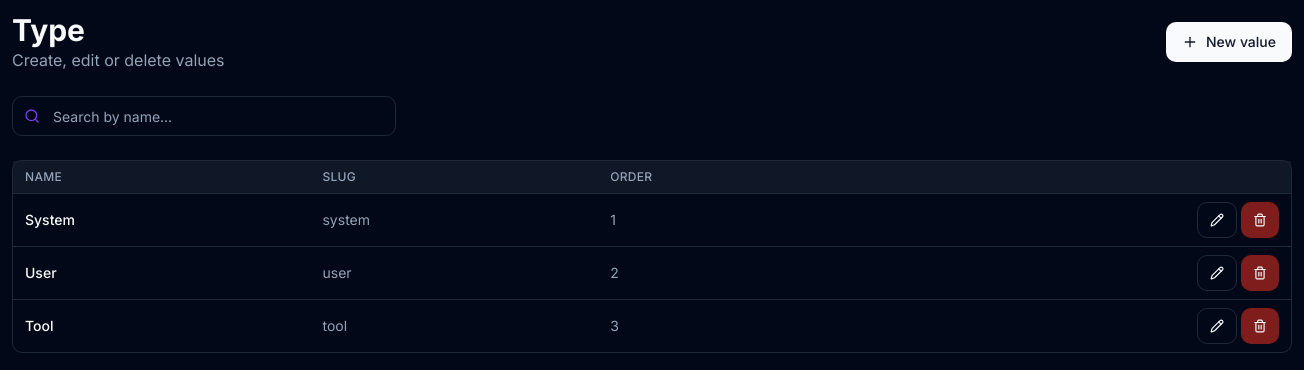
TaxonomyManager › filters the values client-side by name as the user types
Expected: the text "System" is shown, [13,194,310,246]
Act — type a query that only matches one value.
Type "sys" into the search field with placeholder "Search by name..." at (204, 116), box [12,96,396,136]
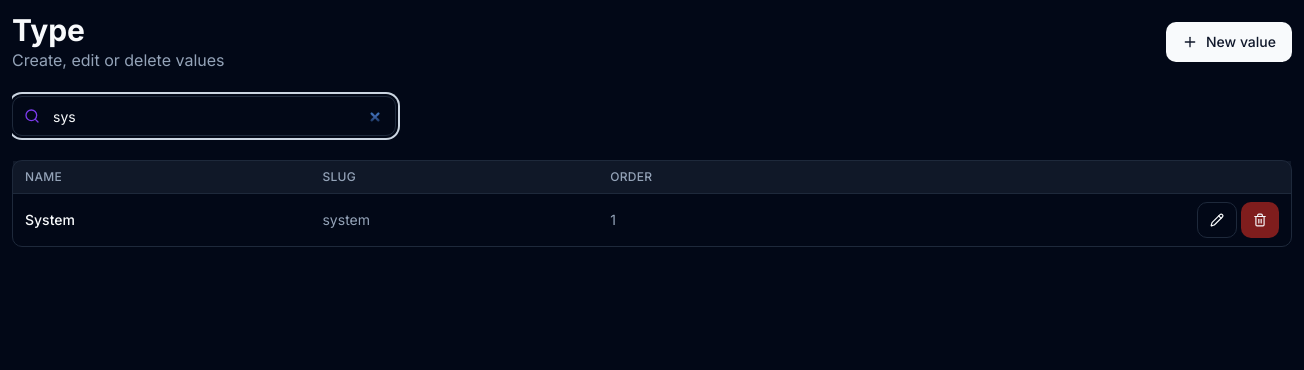
Expected: the text "System" is shown, [13,194,310,246]
Expected: the text "User" is gone
Expected: the text "Tool" is gone
